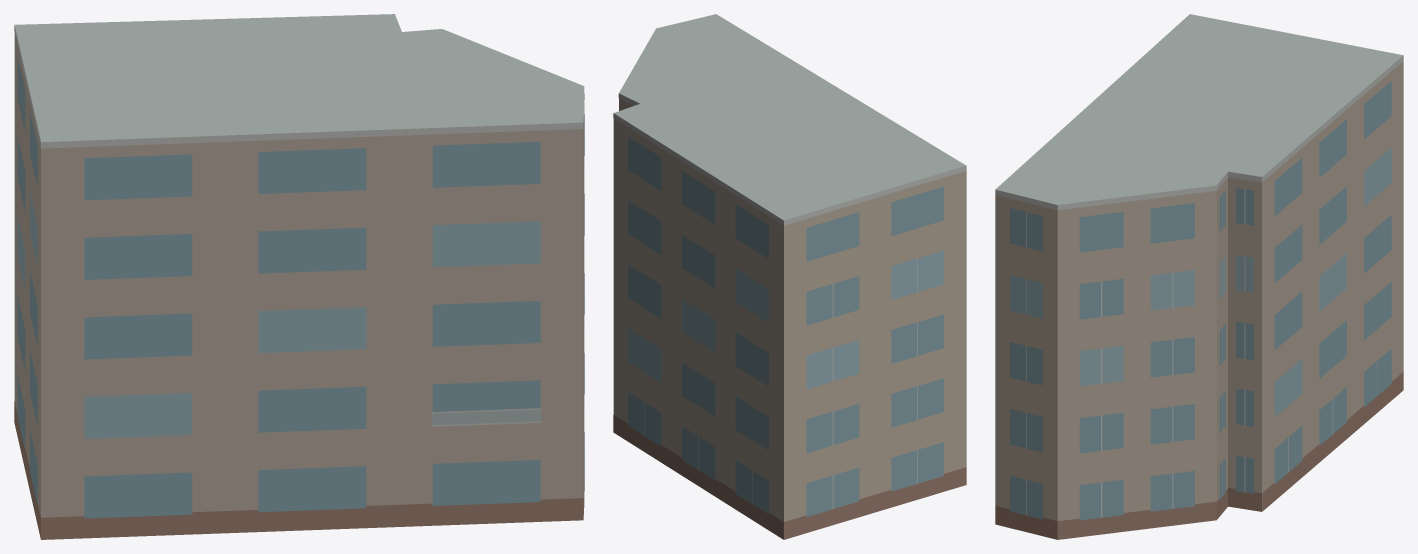
Rendered from survey-upis-32635624.glb.
The picture shows the model from 3 angles, left to right: view 1: azimuth 30°, elevation 25°; view 2: azimuth 150°, elevation 25°; view 3: azimuth 270°, elevation 25°; orthographic projection. The views are drawn at different scales.
Visible parts, largest first — view 1: survey-upis-32635624.tmp; view 2: survey-upis-32635624.tmp; view 3: survey-upis-32635624.tmp.
Boxes of the visible parts, x1,y1,x2,y2 form: survey-upis-32635624.tmp: [14, 14, 584, 539]; survey-upis-32635624.tmp: [613, 14, 966, 539]; survey-upis-32635624.tmp: [995, 14, 1403, 539].
Size of the model in its own units: 18.49 by 15.1 by 16.7.
